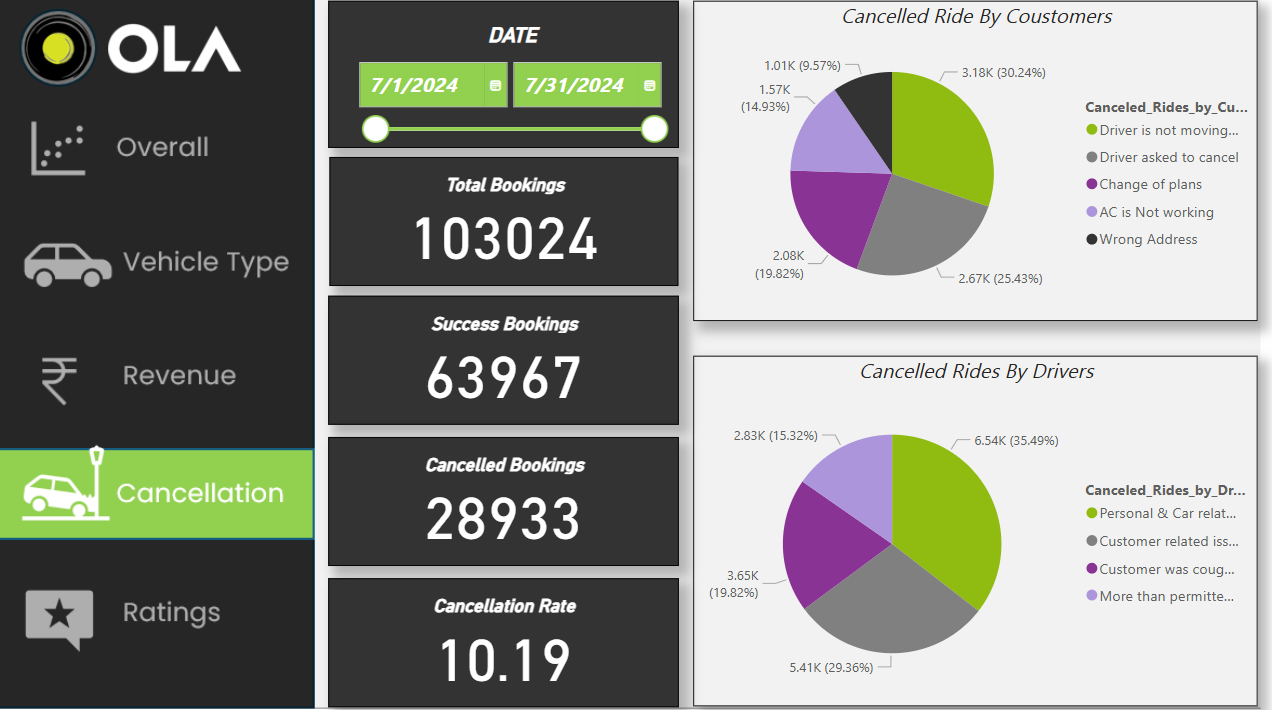

What the dashboard file says about the page in this screenshot:
{"tool":"powerbi","page":{"name":"Cancellation","canvas":[1280,720],"ordinal":3},"visuals":[{"type":"actionButton","box":[56.4,532.5,290.8,94.5],"z":0},{"type":"actionButton","box":[57.7,339.9,290.8,94.5],"z":1000},{"type":"actionButton","box":[58.9,227,290.8,94.5],"z":2000},{"type":"actionButton","box":[58.9,125.2,290.8,94.5],"z":3000},{"type":"pieChart","title":"Cancelled Ride By Coustomers","fields":{"Y":["CountNonNull(July.Canceled_Rides_by_Customer)"],"Category":["July.Canceled_Rides_by_Customer"]},"box":[699.4,30.7,521.5,295.7],"z":4000},{"type":"pieChart","title":"Cancelled Rides By Drivers","fields":{"Category":["July.Canceled_Rides_by_Driver"],"Y":["CountNonNull(July.Canceled_Rides_by_Driver)"]},"box":[699.4,359.5,521.5,323.9],"z":5000},{"type":"slicer","title":"DATE","fields":{"Values":["July.Date"]},"box":[362,30.7,323.9,136.2],"z":6000},{"type":"card","title":"Total Bookings","fields":{"Values":["CountNonNull(July.Booking_ID)"]},"box":[363.2,175.5,322.7,119],"z":7000},{"type":"card","title":"Success Bookings","fields":{"Values":["CountNonNull(July.Booking_ID)"]},"box":[362,304.3,323.9,119],"z":8000},{"type":"card","title":"Cancelled Bookings","fields":{"Values":["CountNonNull(July.Booking_ID)"]},"box":[362,434.4,323.9,119],"z":9000},{"type":"card","title":"Cancellation Rate","fields":{"Values":["July.CanceledPercentage"]},"box":[362,564.4,323.9,119],"z":10000}]}

Visuals, with their boxes in screenshot pixels (x1, y1, x2, y2), scaled from the page's 1280x720 canvas onto the 1272x710 screenshot:
actionButton: region(56, 525, 345, 618)
actionButton: region(57, 335, 346, 428)
actionButton: region(59, 224, 348, 317)
actionButton: region(59, 123, 348, 217)
"Cancelled Ride By Coustomers" pieChart: region(695, 30, 1213, 322)
"Cancelled Rides By Drivers" pieChart: region(695, 355, 1213, 674)
"DATE" slicer: region(360, 30, 682, 165)
"Total Bookings" card: region(361, 173, 682, 290)
"Success Bookings" card: region(360, 300, 682, 417)
"Cancelled Bookings" card: region(360, 428, 682, 546)
"Cancellation Rate" card: region(360, 557, 682, 674)
